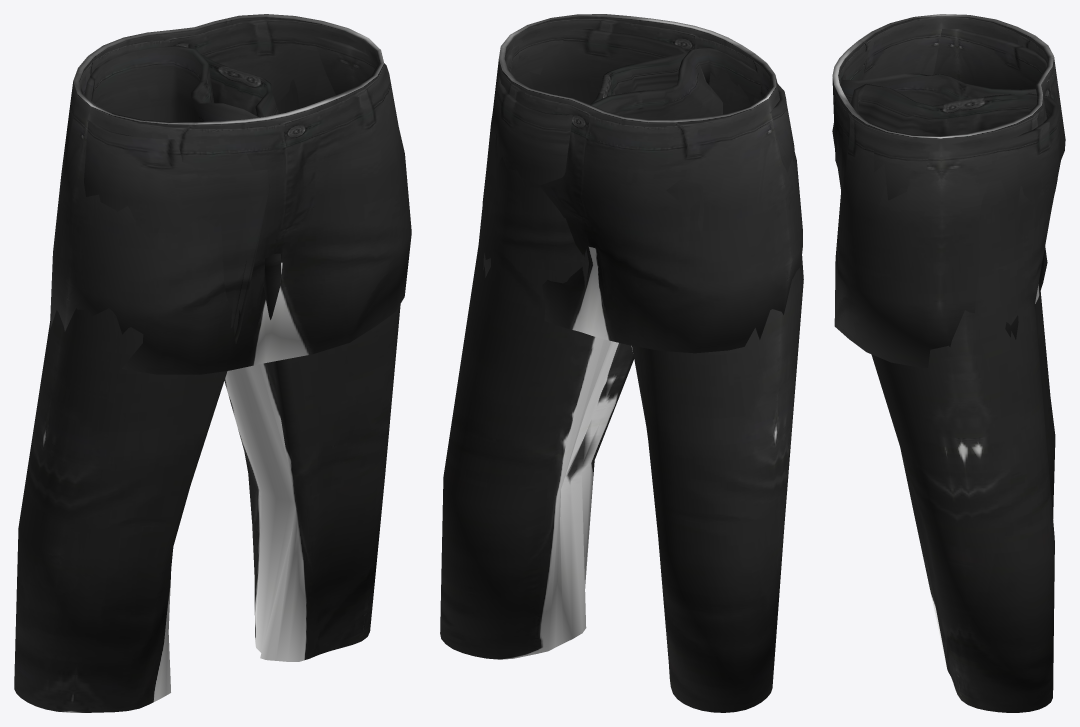
3 views of the same model, side by side, from view 1: azimuth 30°, elevation 25°; view 2: azimuth 150°, elevation 25°; view 3: azimuth 270°, elevation 25° (orthographic). The views are drawn at different scales.
Parts seen in each view (by area): view 1: garment_leg0; view 2: garment_leg0; view 3: garment_leg0.
Part boxes in pixels (x1,y1,x2,y2): garment_leg0: (14,14,411,712); garment_leg0: (440,14,803,712); garment_leg0: (832,14,1065,712).
Size of the model in its own units: 0.4492 by 0.7726 by 0.2885.
Materials: 1 (1 with a texture image).
